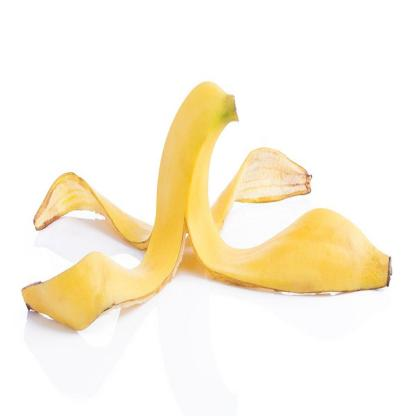banana: (149, 87, 373, 328)
